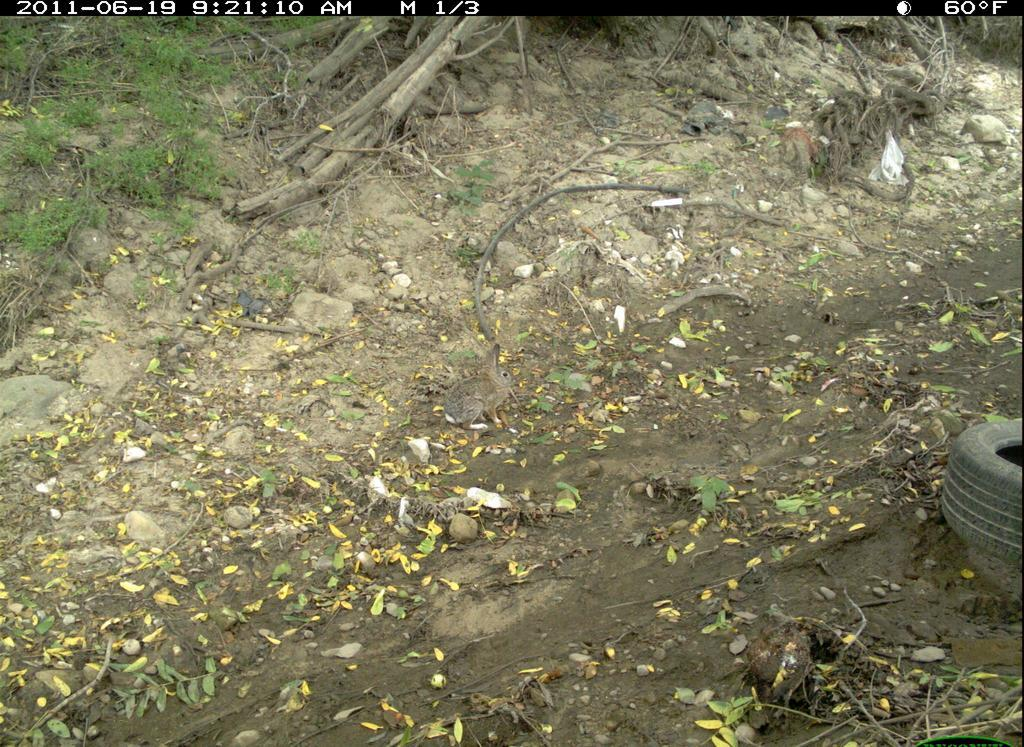rabbit: (438, 336, 528, 455)
